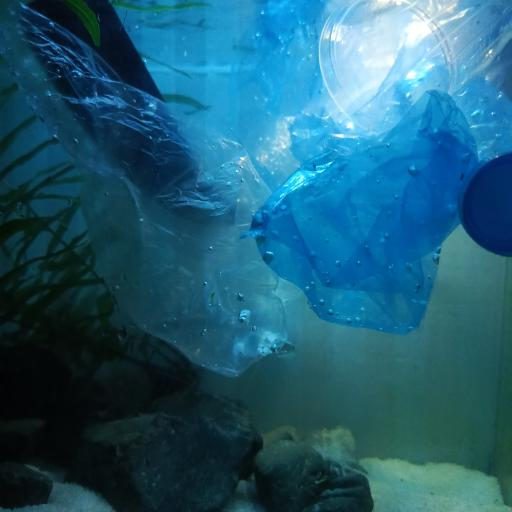bottle_cap: (459, 153, 512, 256)
mask: (16, 2, 234, 222)
plastic_bag: (0, 0, 295, 381), (247, 0, 512, 337)
plastic_cup: (316, 0, 512, 134)
